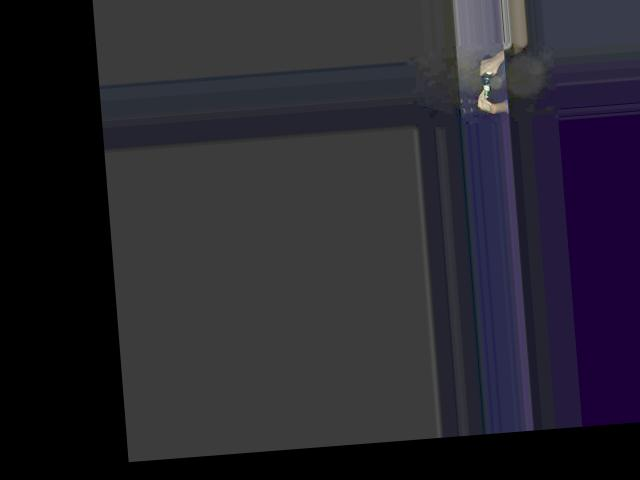beer: (480, 54, 497, 97)
